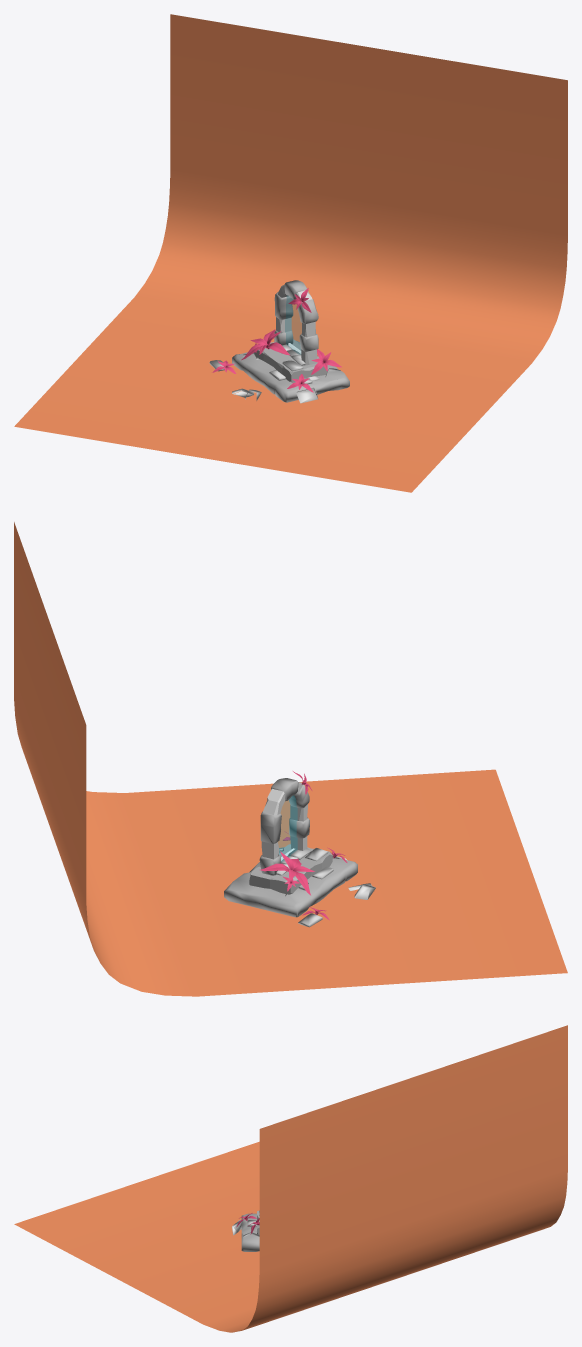
Rendered from Portal.glb.
The picture shows the model from 3 angles, top to bottom: view 1: azimuth 30°, elevation 25°; view 2: azimuth 150°, elevation 25°; view 3: azimuth 270°, elevation 25°; orthographic projection. The views are drawn at different scales.
Visible parts, largest first — view 1: Plane.016, Plane.004, Plane.001, Plane.002, Plane, Plane.003; view 2: Plane.016, Plane.004, Plane.001, Plane.002, Plane, Plane.003, Plane.020; view 3: Plane.016, Plane.004.
Boxes of the visible parts, x1,y1,x2,y2 form: Plane.016: (14,14,567,492); Plane.004: (232,341,349,402); Plane.001: (274,280,318,351); Plane.002: (254,339,326,382); Plane: (276,285,316,365); Plane.003: (285,296,301,354); Plane.016: (14,522,567,996); Plane.004: (224,847,357,917); Plane.001: (259,778,309,875); Plane.002: (249,844,332,894); Plane: (261,783,307,859); Plane.003: (278,796,297,861); Plane.020: (260,851,314,895); Plane.016: (14,1025,567,1332); Plane.004: (241,1213,259,1251).
Bounding box in the file's own units: 28.75 × 12.96 × 28.75.
